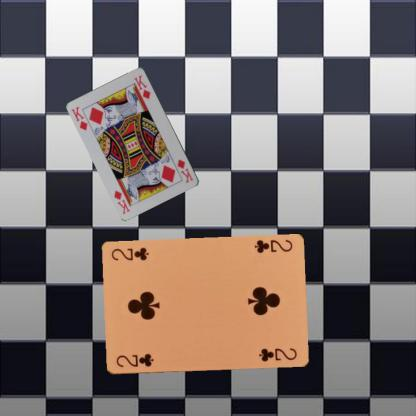2c: (251, 237, 294, 255), (113, 351, 155, 369)
Kd: (69, 104, 89, 132), (174, 157, 194, 184)
